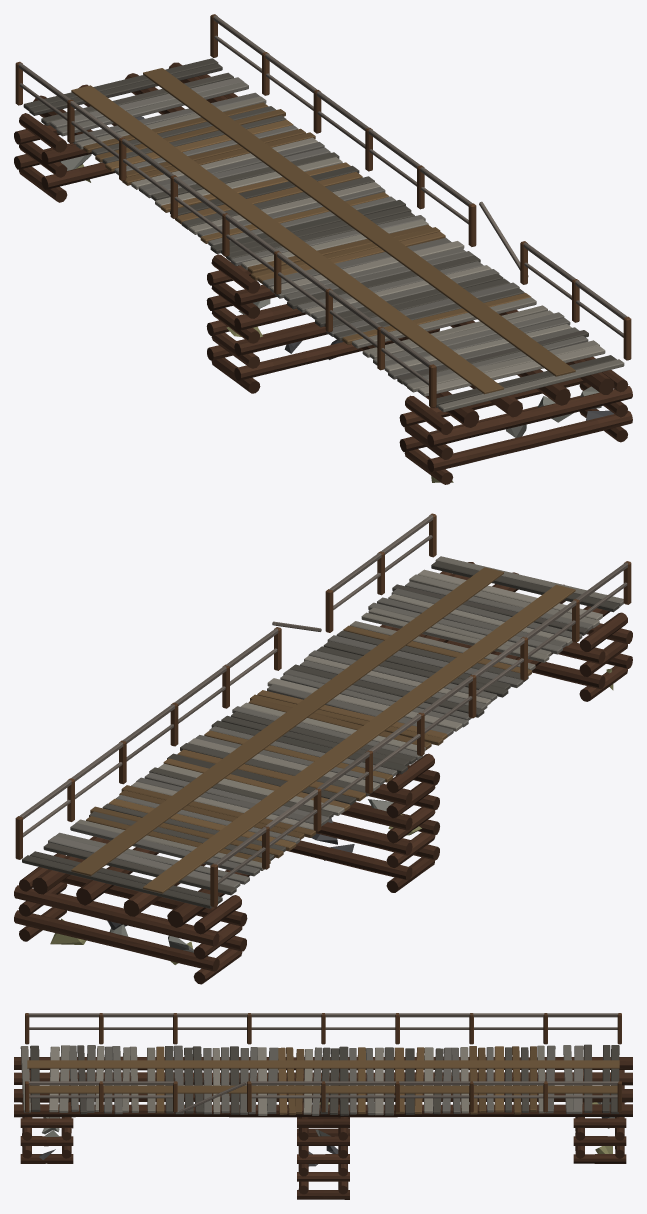
File: road-bridge.glb
3 renders of one model, top to bottom at view 1: azimuth 30°, elevation 25°; view 2: azimuth 150°, elevation 25°; view 3: azimuth 270°, elevation 25°, orthographic. The views are drawn at different scales.
Visible parts, largest first — view 1: road-bridge; view 2: road-bridge; view 3: road-bridge.
Part boxes in pixels (x1=…): road-bridge: x1=14, y1=14, x2=632, y2=484; road-bridge: x1=14, y1=513, x2=632, y2=984; road-bridge: x1=14, y1=1013, x2=632, y2=1199.
Bounding box in the file's own units: 5.16 × 4.12 × 18.8.
